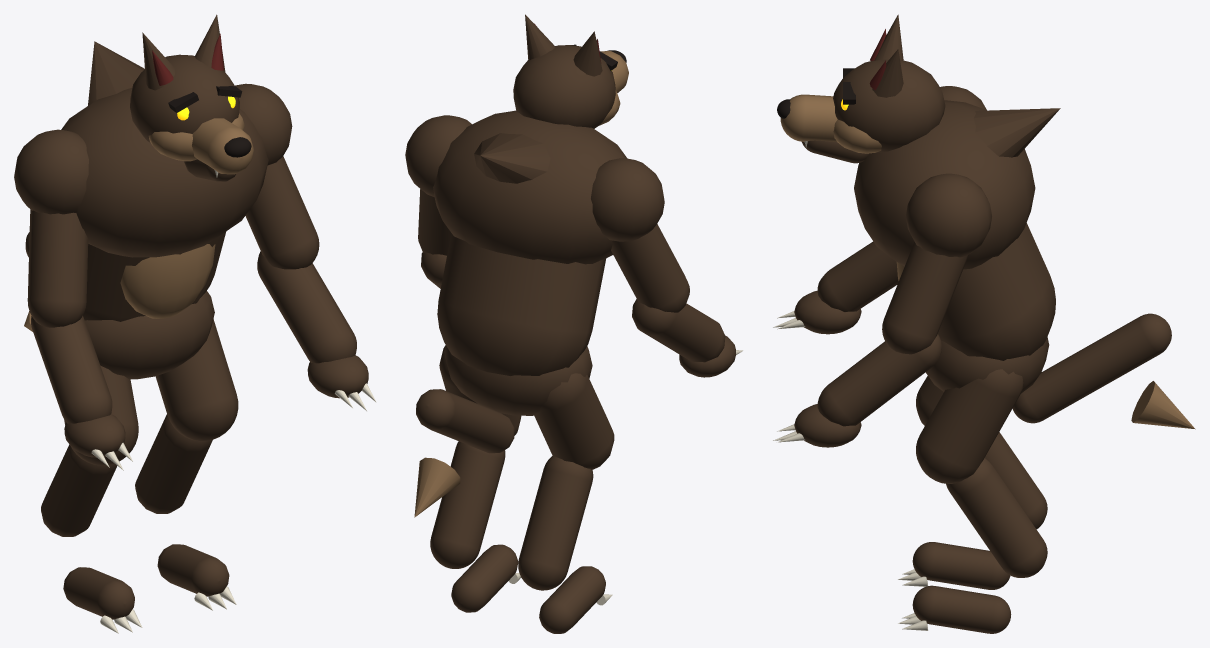
File: werewolf.glb
3 views of the same model, side by side, from view 1: azimuth 30°, elevation 25°; view 2: azimuth 150°, elevation 25°; view 3: azimuth 270°, elevation 25° (orthographic). The views are drawn at different scales.
Parts seen in each view (by area): view 1: fur, furLight, bone, dark, mouth; view 2: fur, furLight; view 3: fur, furLight, bone.
Part boxes in pixels (x1,y1,x2,y2): fur: [14, 14, 368, 619]; furLight: [24, 113, 253, 331]; bone: [91, 170, 376, 633]; dark: [168, 86, 251, 157]; mouth: [152, 33, 224, 85]; fur: [405, 14, 735, 633]; furLight: [414, 51, 628, 517]; fur: [794, 14, 1171, 633]; furLight: [780, 94, 1195, 429]; bone: [773, 141, 928, 630].
Bounding box in the file's own units: 0.75 × 1.48 × 0.9793.
